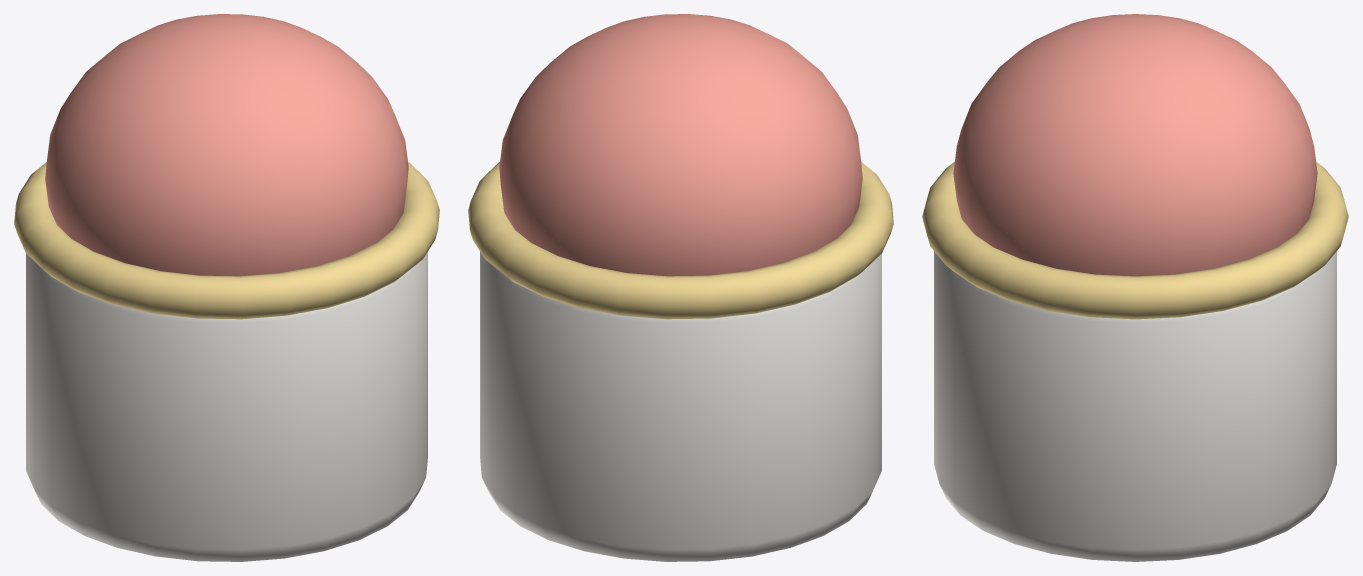
The model's file is blaster_pawn.glb.
The picture shows the model from 3 angles, left to right: view 1: azimuth 30°, elevation 25°; view 2: azimuth 150°, elevation 25°; view 3: azimuth 270°, elevation 25°; orthographic projection.
Parts seen in each view (by area): view 1: Blaster_Body, Blaster_Cap, Blaster_Ring; view 2: Blaster_Body, Blaster_Cap, Blaster_Ring; view 3: Blaster_Body, Blaster_Cap, Blaster_Ring.
Boxes of the visible parts, x1,y1,x2,y2 form: Blaster_Body: [26, 252, 427, 561]; Blaster_Cap: [45, 14, 408, 276]; Blaster_Ring: [14, 162, 439, 319]; Blaster_Body: [480, 252, 881, 561]; Blaster_Cap: [499, 14, 862, 276]; Blaster_Ring: [468, 162, 893, 319]; Blaster_Body: [934, 251, 1336, 561]; Blaster_Cap: [953, 14, 1317, 276]; Blaster_Ring: [922, 162, 1348, 319].
Bounding box in the file's own units: 0.89 × 1.04 × 0.89.
